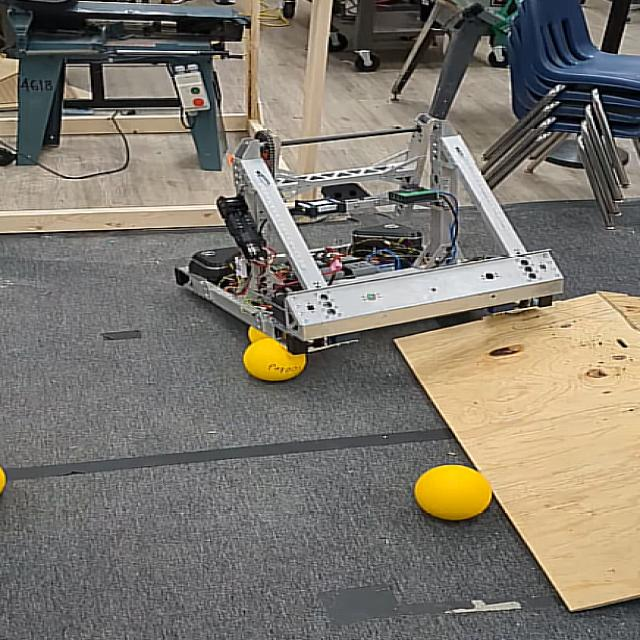Fuel: (413, 464, 492, 520), (414, 464, 492, 520), (244, 337, 305, 381), (0, 463, 8, 498), (250, 327, 267, 342), (0, 466, 4, 494)
